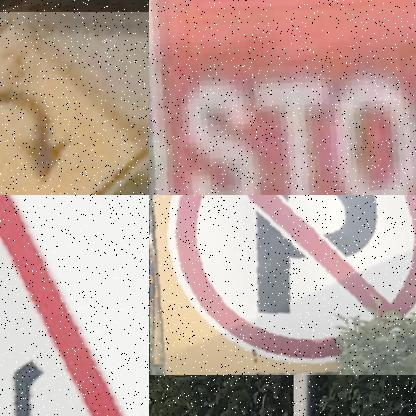No Parking: (150, 195, 416, 375)
U-Turn: (0, 12, 149, 195)
